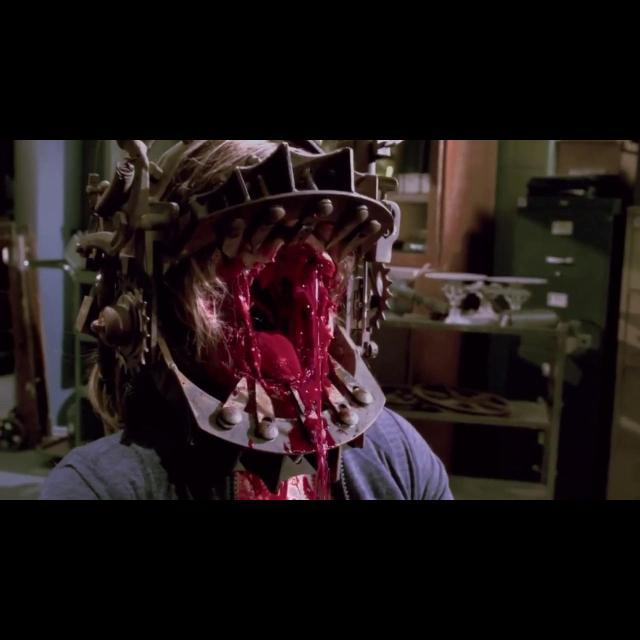blood: (221, 234, 358, 500)
